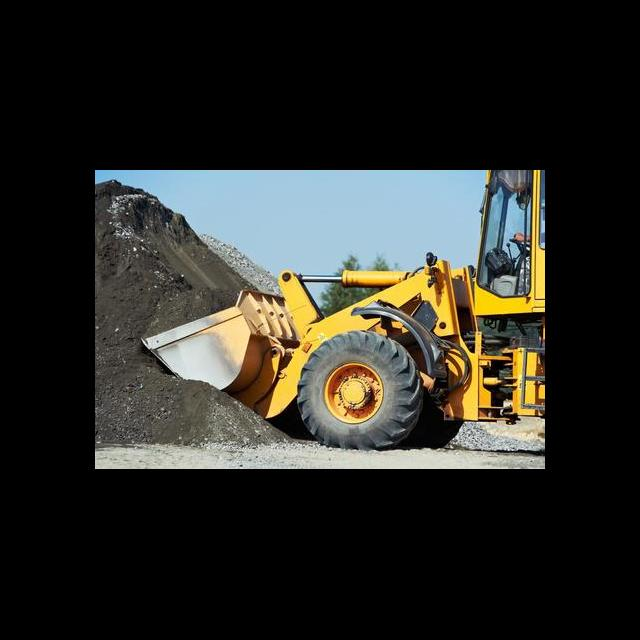Person: (515, 206, 545, 296)
wheel loader: (135, 170, 544, 457)
